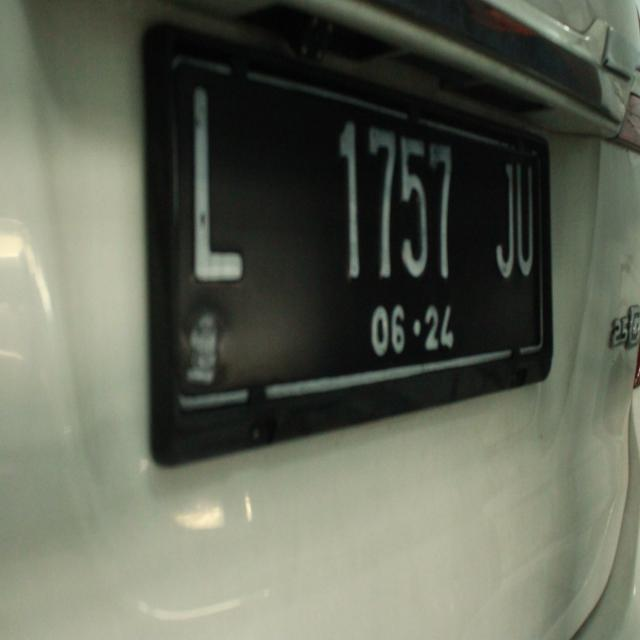1: (324, 107, 374, 300)
5: (388, 120, 434, 286)
7: (360, 112, 410, 298), (418, 128, 471, 290)
J: (480, 150, 522, 290)
L: (167, 77, 270, 311)
U: (508, 146, 548, 294)
